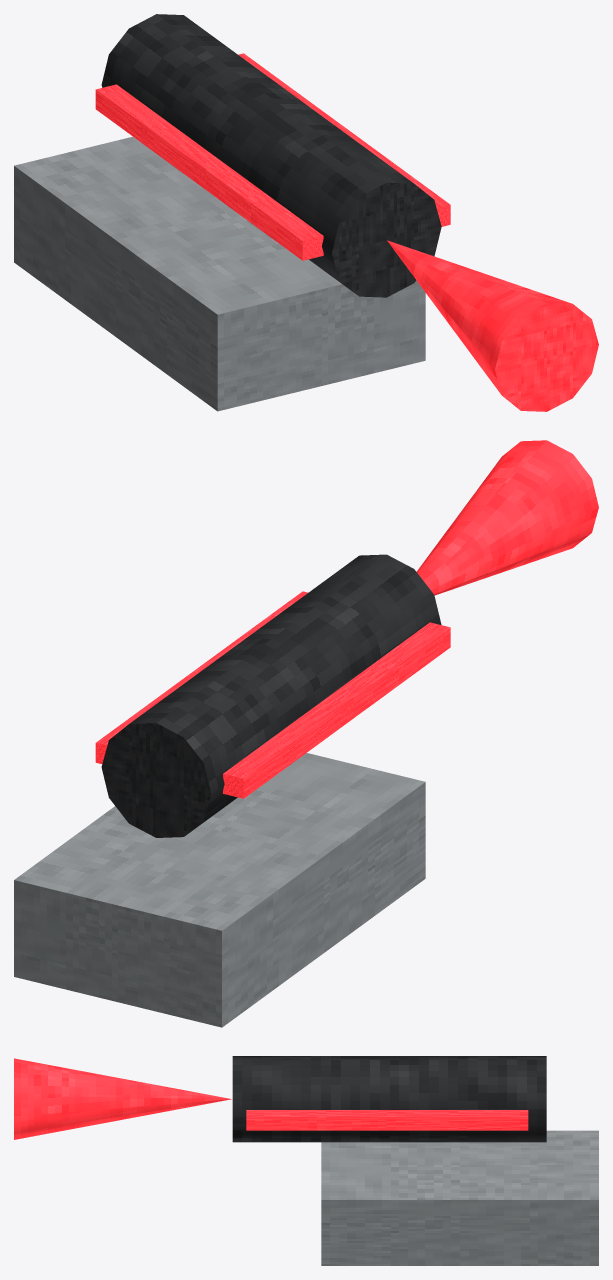
Rendered from severance-lance.glb.
3 renders of one model, top to bottom at view 1: azimuth 30°, elevation 25°; view 2: azimuth 150°, elevation 25°; view 3: azimuth 270°, elevation 25°, orthographic. The views are drawn at different scales.
Visible parts, largest first — view 1: emitter mount, emitter barrel, severance pulse, charge rails (×2); view 2: emitter mount, emitter barrel, severance pulse, charge rails (×2); view 3: emitter mount, emitter barrel, severance pulse, charge rails.
Boxes of the visible parts, x1,y1,x2,y2 form: emitter mount: [14, 136, 425, 411]; emitter barrel: [101, 14, 441, 297]; severance pulse: [387, 240, 598, 411]; charge rails (×2): [95, 53, 450, 260]; emitter mount: [14, 753, 425, 1027]; emitter barrel: [101, 554, 441, 837]; severance pulse: [416, 440, 598, 595]; charge rails (×2): [95, 591, 450, 798]; emitter mount: [321, 1130, 598, 1265]; emitter barrel: [232, 1056, 546, 1142]; severance pulse: [14, 1058, 231, 1139]; charge rails: [246, 1110, 528, 1130].
Size of the model in its own units: 0.72 by 0.83 by 2.57.
Materials: 3 (3 with a texture image).
